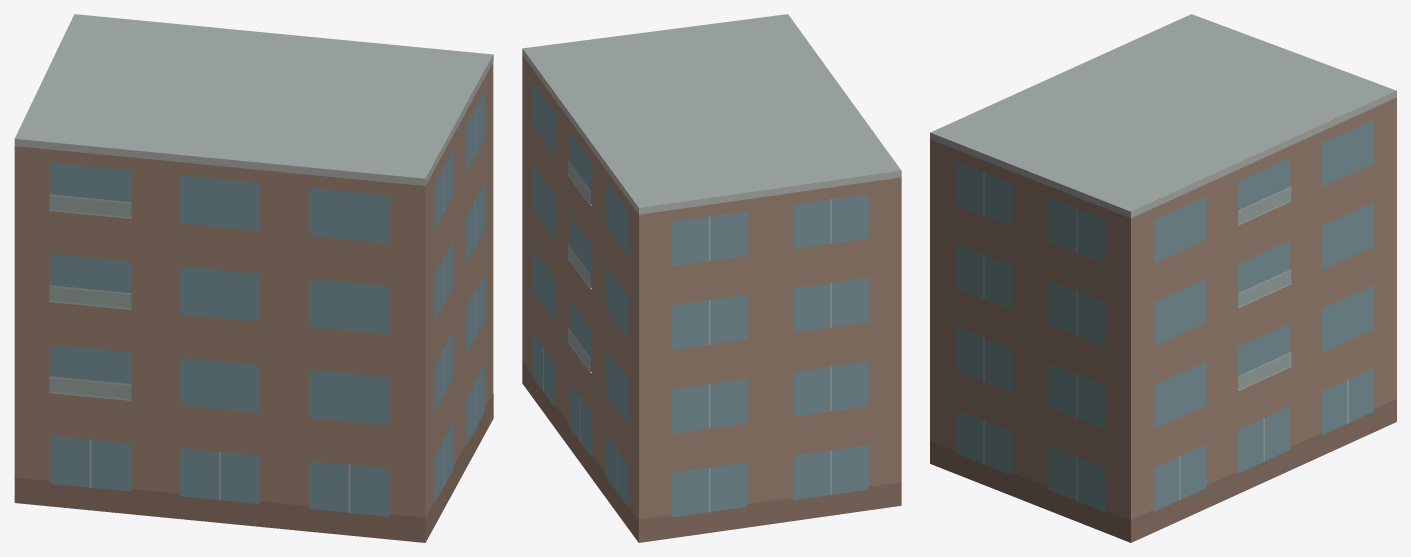
File: survey-upis-32721060.glb
3 views of the same model, side by side, from view 1: azimuth 30°, elevation 25°; view 2: azimuth 150°, elevation 25°; view 3: azimuth 270°, elevation 25° (orthographic). The views are drawn at different scales.
Visible parts, largest first — view 1: survey-upis-32721060.tmp; view 2: survey-upis-32721060.tmp; view 3: survey-upis-32721060.tmp.
Boxes of the visible parts, <box> form: survey-upis-32721060.tmp: <box>14,14,493,542</box>; survey-upis-32721060.tmp: <box>522,14,901,542</box>; survey-upis-32721060.tmp: <box>930,14,1396,542</box>.
Bounding box in the file's own units: 15.63 × 12.2 × 15.59.
